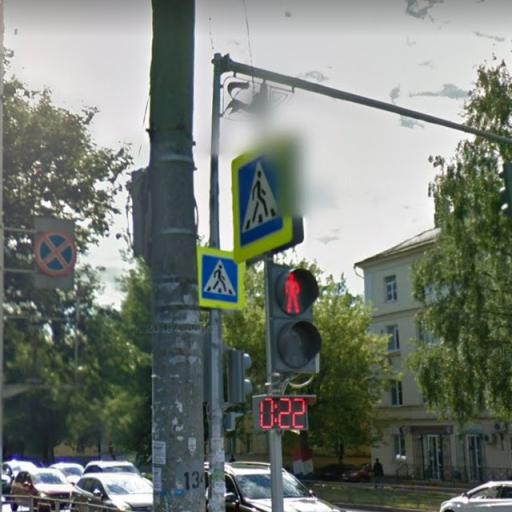traffic_sign: (231, 130, 307, 267), (195, 245, 250, 316), (34, 228, 82, 280)
